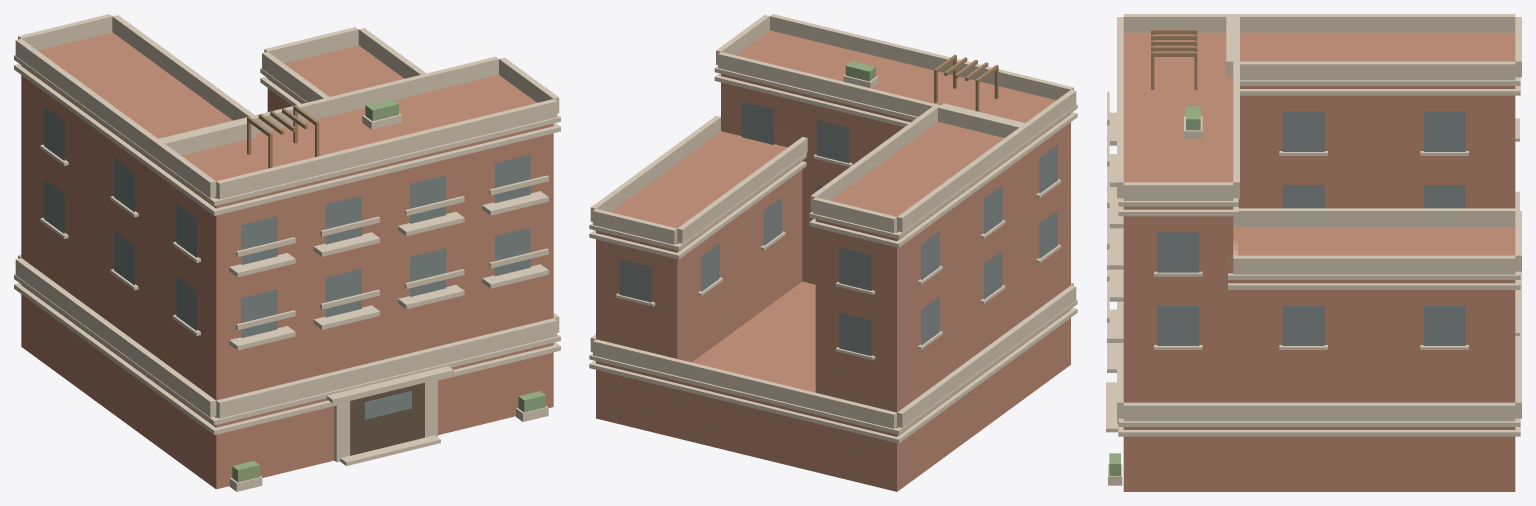
The model's file is residential_2x2_court.glb.
3 renders of one model, left to right at view 1: azimuth 30°, elevation 25°; view 2: azimuth 150°, elevation 25°; view 3: azimuth 270°, elevation 25°, orthographic. The views are drawn at different scales.
Visible parts, largest first — view 1: residential_2x2_court_0; view 2: residential_2x2_court_0; view 3: residential_2x2_court_0.
Part boxes in pixels (left/top/right/bottom): residential_2x2_court_0: left=14, top=14, right=560, bottom=491; residential_2x2_court_0: left=589, top=14, right=1077, bottom=491; residential_2x2_court_0: left=1106, top=14, right=1521, bottom=491.
Bounding box in the file's own units: 15 × 13.5 × 15.4.
